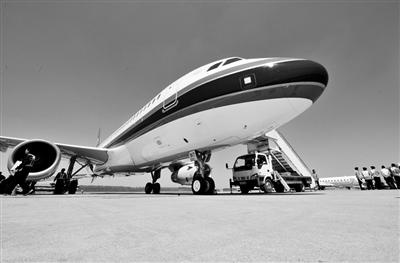airplane: (3, 57, 348, 197)
